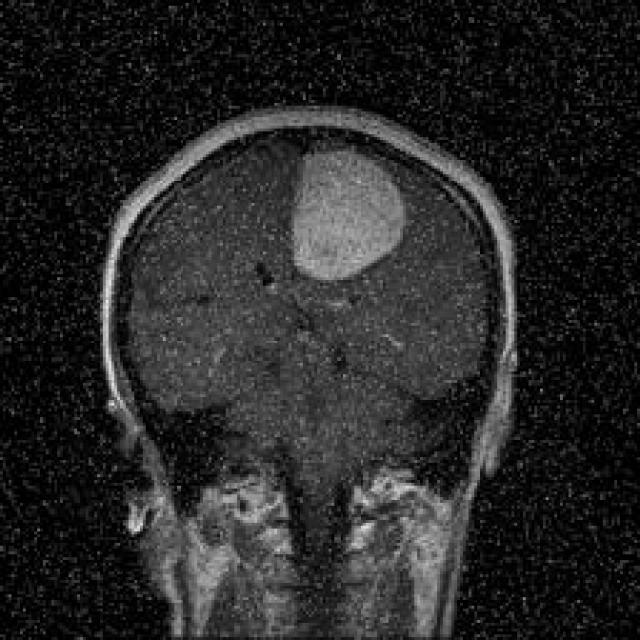meningioma_tumor: (276, 132, 420, 297)
